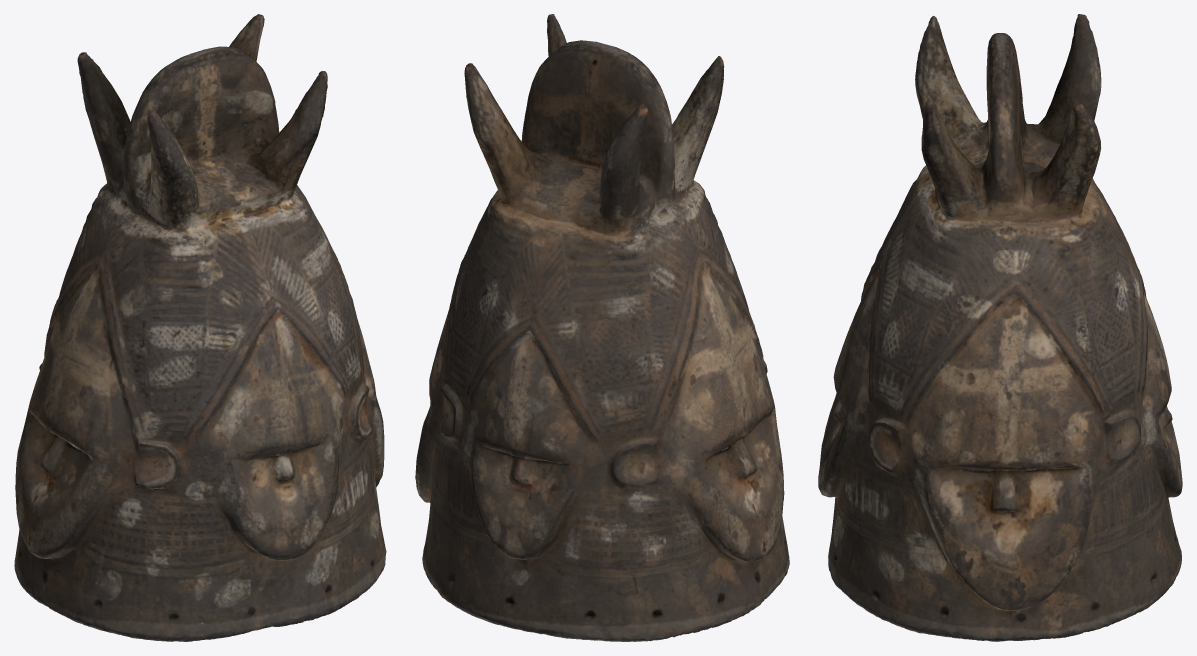
Rendered from preview.glb.
3 renders of one model, left to right at view 1: azimuth 30°, elevation 25°; view 2: azimuth 150°, elevation 25°; view 3: azimuth 270°, elevation 25°, orthographic.
Visible parts, largest first — view 1: ADVIMG_2019_477_5_Mask_Liberia_Complete_EDIT_n3d; view 2: ADVIMG_2019_477_5_Mask_Liberia_Complete_EDIT_n3d; view 3: ADVIMG_2019_477_5_Mask_Liberia_Complete_EDIT_n3d.
Part boxes in pixels (bbox=[...]): ADVIMG_2019_477_5_Mask_Liberia_Complete_EDIT_n3d: bbox=[14, 14, 386, 641]; ADVIMG_2019_477_5_Mask_Liberia_Complete_EDIT_n3d: bbox=[415, 14, 789, 641]; ADVIMG_2019_477_5_Mask_Liberia_Complete_EDIT_n3d: bbox=[818, 14, 1182, 641].
Size of the model in its own units: 0.1857 by 0.2772 by 0.1739.
1 material, 1 textured.
